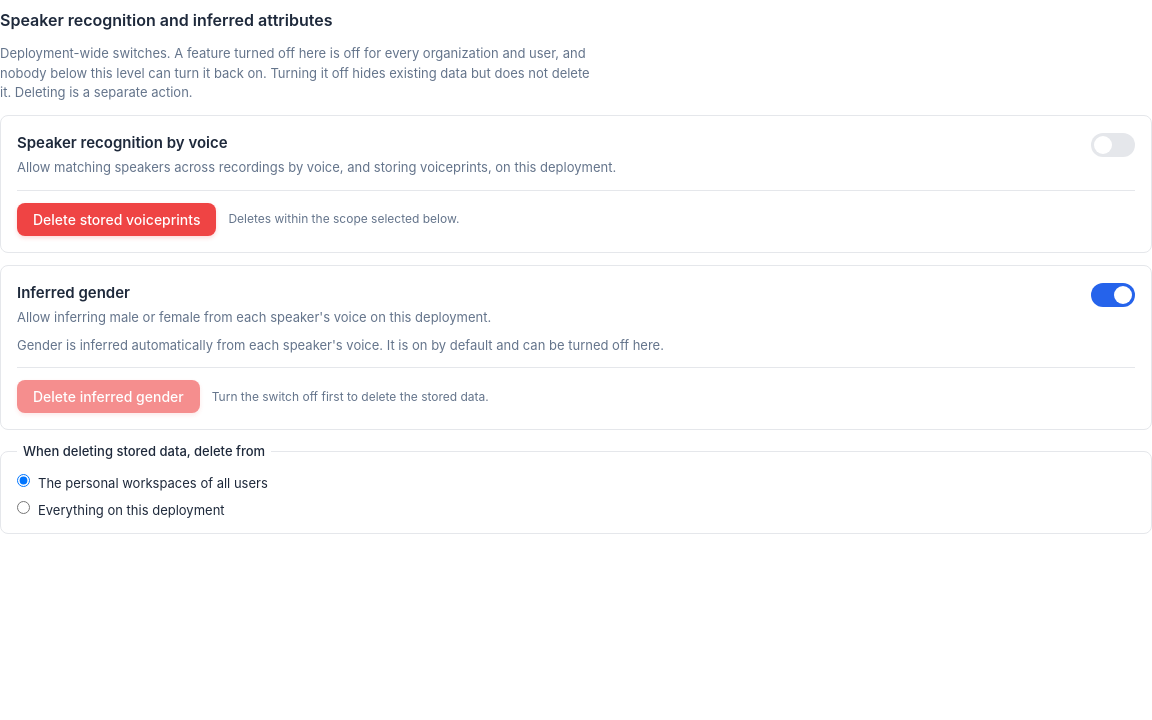
it: InstancePrivacyCard › shows the refusal when the server rejects the scope anyway
Expected: the switch with test id "instance-voiceprints-switch" is shown, [1091,133,1135,157]
Click the button "Delete stored voiceprints": click(117, 219) [17,202,216,236]
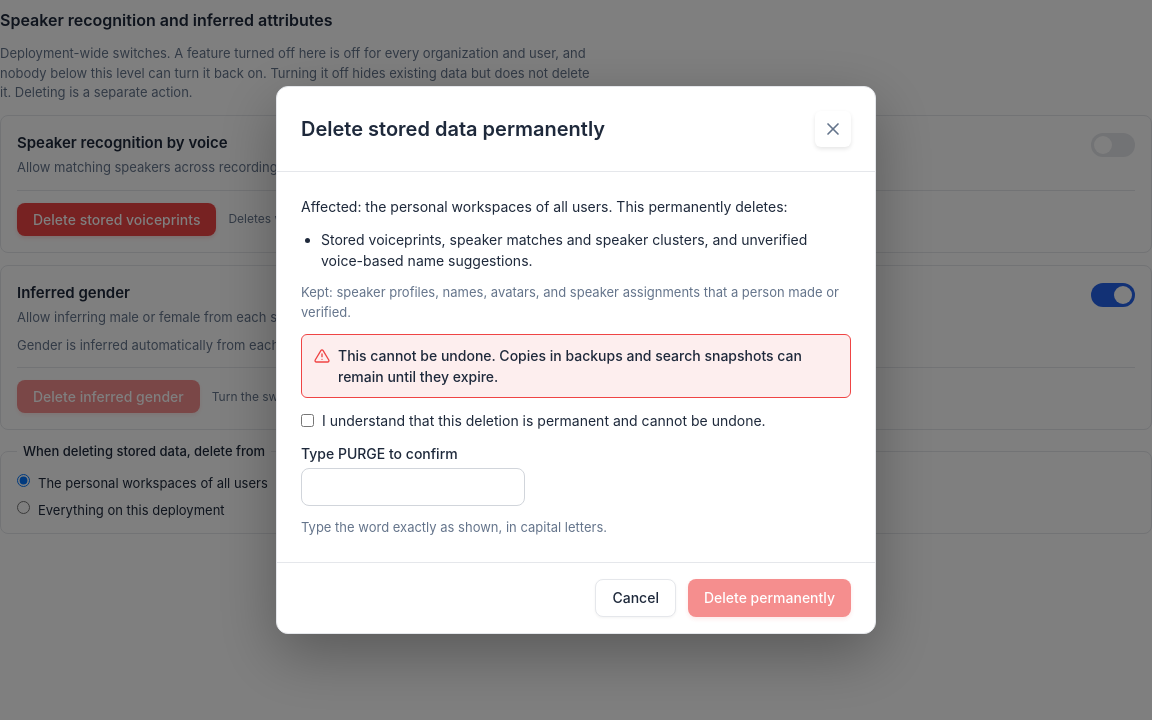
Click the checkbox labelled "I understand": click(308, 421) [301,414,314,427]
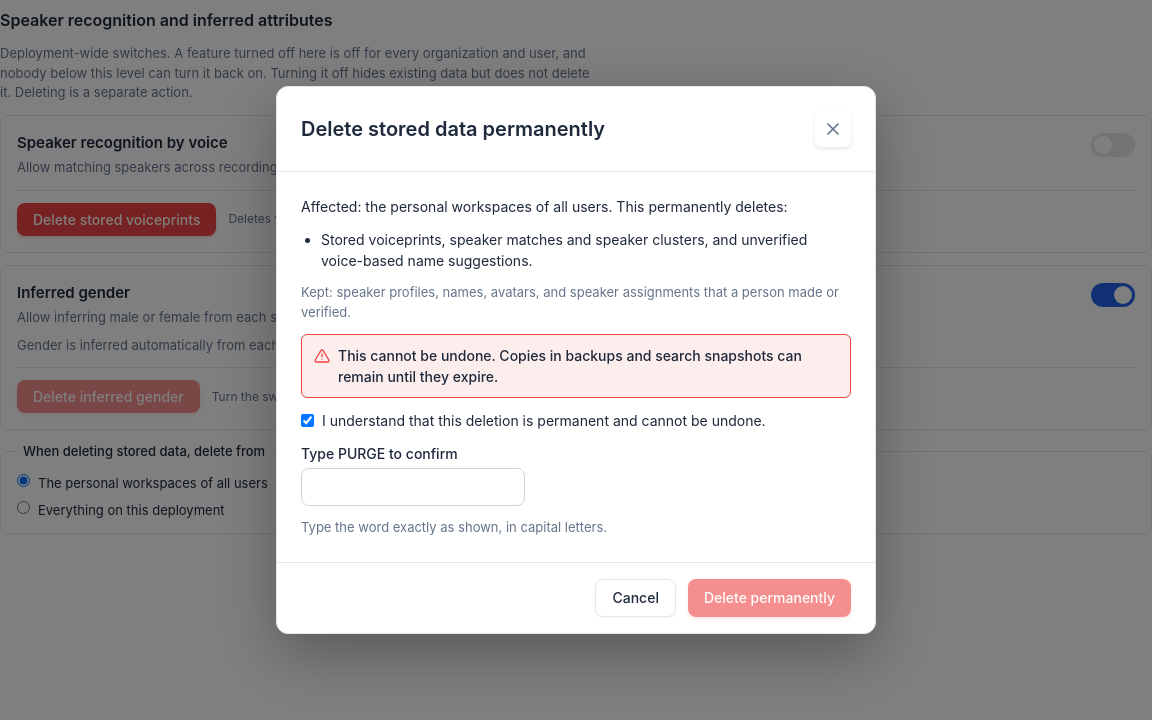
In the field: (413, 487) [301,468,525,506], type "PURGE"
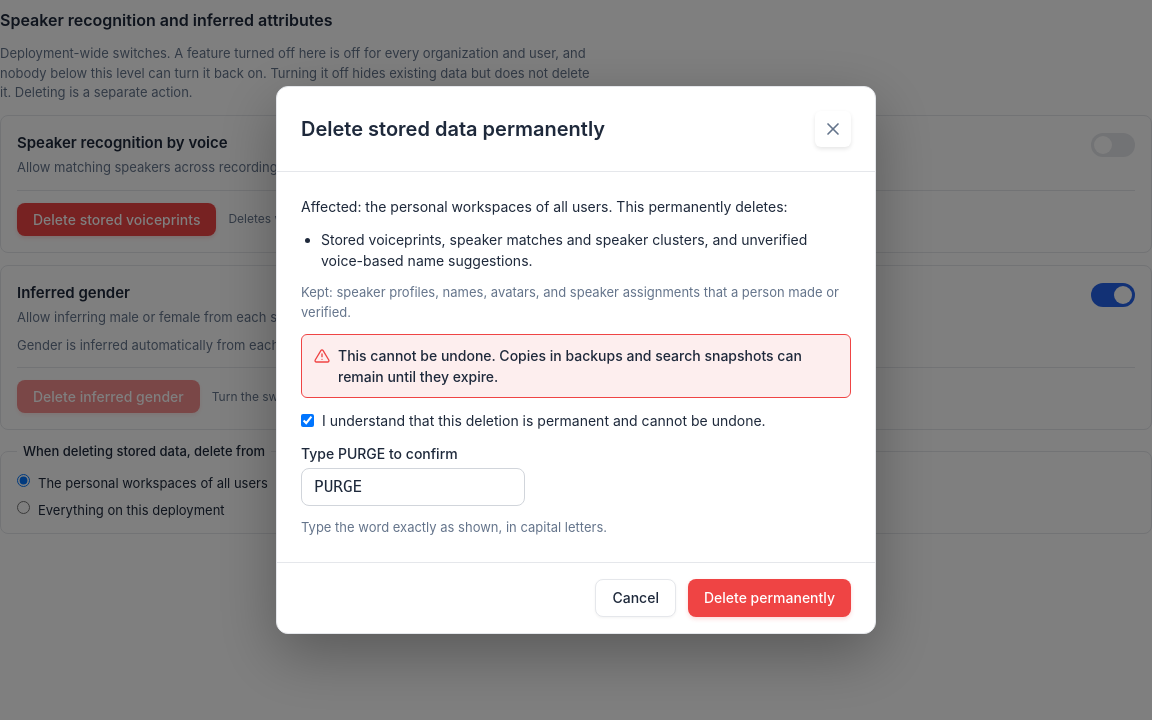
Click the button with test id "purge-confirm": click(770, 598) [688,579,851,617]
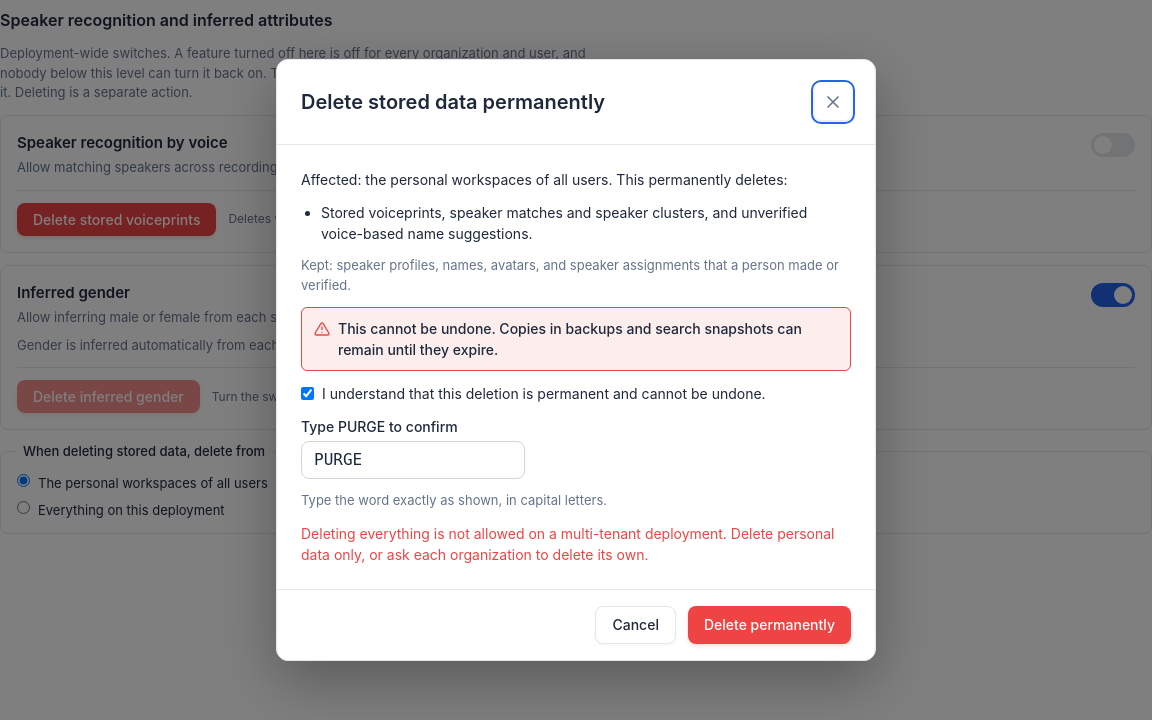
Expected: the message shows "not allowed on a multi-tenant", [301,525,834,563]
